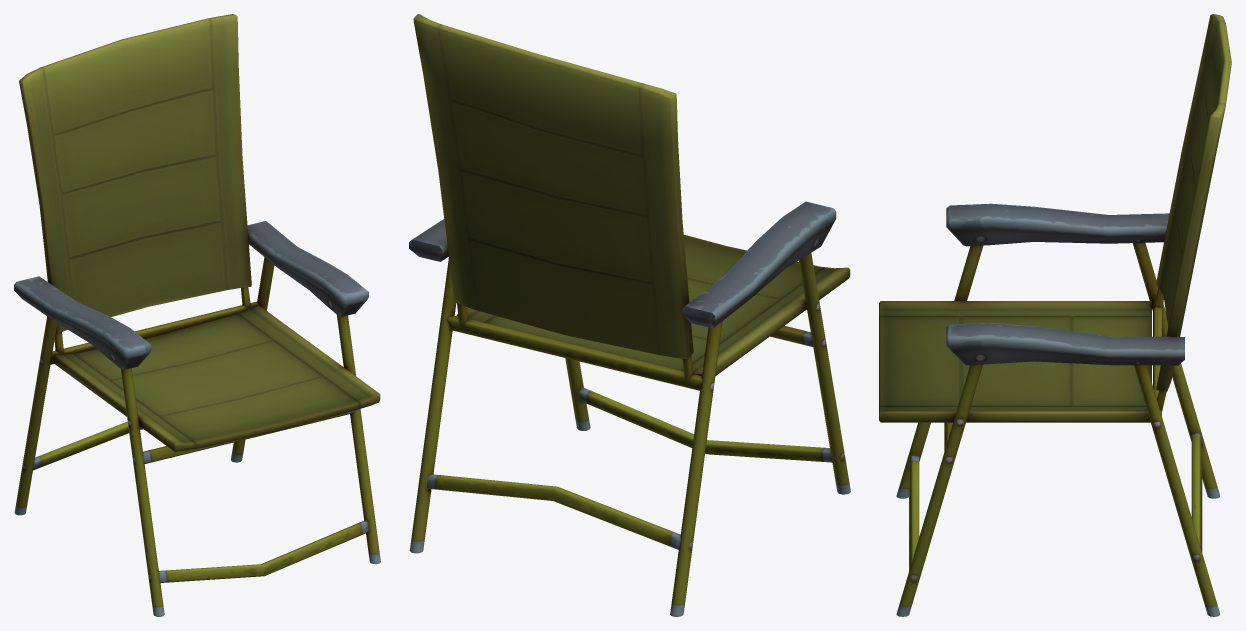
Rendered from Chair02_1.FBX.
3 views of the same model, side by side, from view 1: azimuth 30°, elevation 25°; view 2: azimuth 150°, elevation 25°; view 3: azimuth 270°, elevation 25° (orthographic). The views are drawn at different scales.
Parts seen in each view (by area): view 1: Chair02_1; view 2: Chair02_1; view 3: Chair02_1.
Part boxes in pixels (<box>): Chair02_1: <box>14,14,380,616</box>; Chair02_1: <box>409,14,850,616</box>; Chair02_1: <box>879,14,1231,616</box>.
Size of what is drawn, in the model's own units: 0.6787 by 1.14 by 0.7275.
